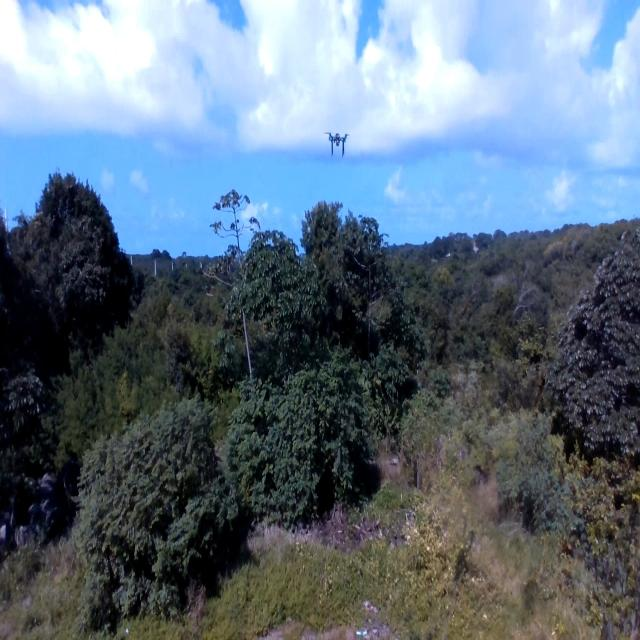-uav-: (322, 118, 348, 162)
